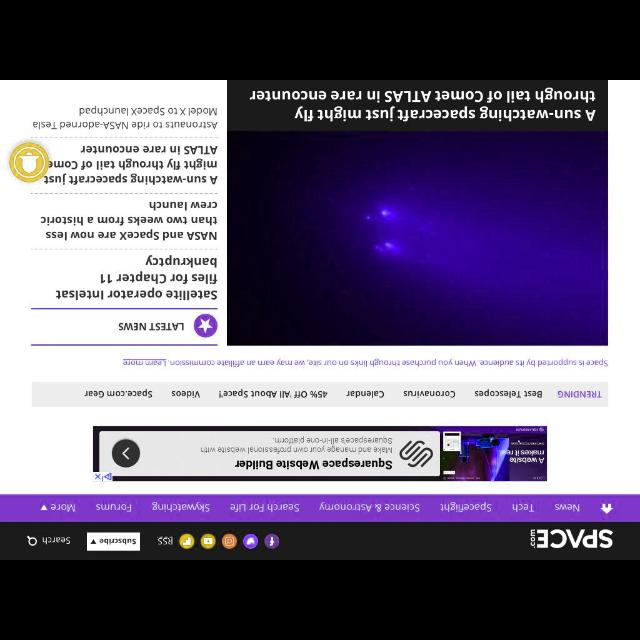button: (8, 142, 49, 182)
icon: (19, 151, 39, 173), (600, 502, 614, 514), (27, 534, 38, 546), (40, 504, 48, 511), (90, 540, 96, 544)
iframe: (94, 426, 546, 482)
image: (228, 131, 608, 345), (530, 528, 614, 548), (194, 313, 216, 337), (264, 532, 280, 550), (221, 532, 237, 550), (243, 532, 259, 550), (179, 532, 195, 550), (201, 534, 217, 550)
link: (122, 358, 166, 368)
multitab: (29, 494, 588, 522), (32, 383, 608, 407)
spinner: (87, 532, 139, 550), (40, 503, 76, 513)
text: (249, 87, 596, 121), (56, 254, 218, 300), (40, 201, 216, 241), (44, 146, 218, 184), (34, 104, 218, 130), (168, 358, 608, 368), (218, 388, 328, 398), (318, 502, 419, 512), (230, 502, 300, 512), (152, 501, 210, 513), (473, 388, 542, 398), (84, 388, 152, 398), (118, 322, 184, 332), (438, 501, 492, 513), (403, 390, 455, 398), (96, 502, 132, 512), (558, 390, 602, 398), (346, 389, 384, 398), (554, 503, 580, 513), (50, 503, 76, 513), (42, 537, 70, 545), (172, 390, 200, 398), (512, 503, 534, 513), (100, 538, 136, 544), (156, 536, 174, 544)
